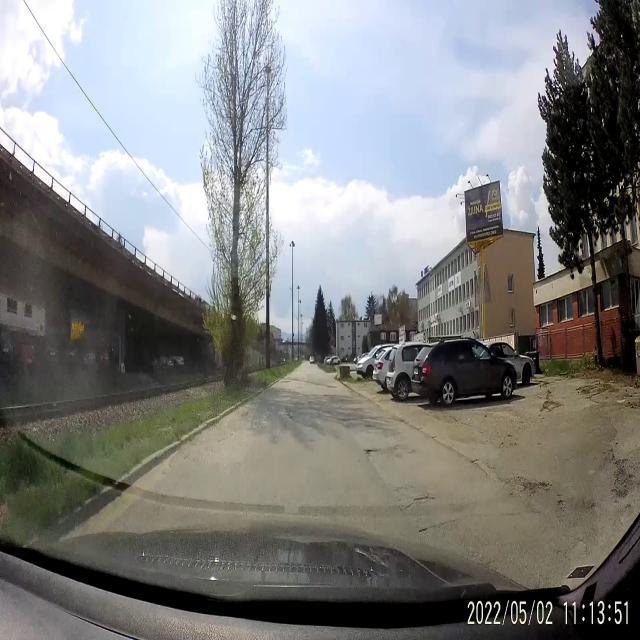Pothole: (408, 488, 442, 508), (358, 438, 384, 464)
